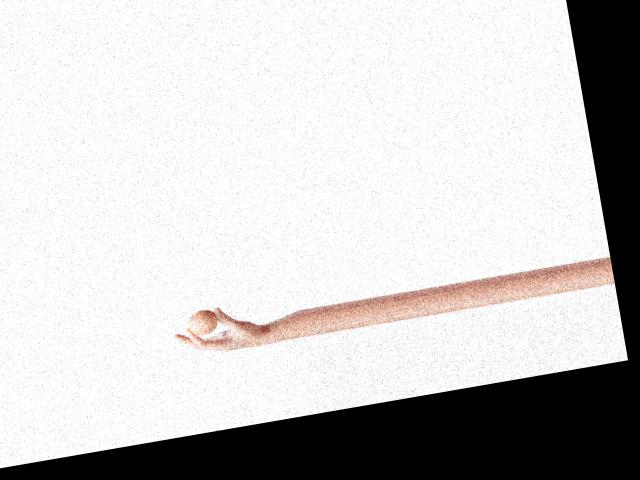egg: (186, 307, 220, 336)
